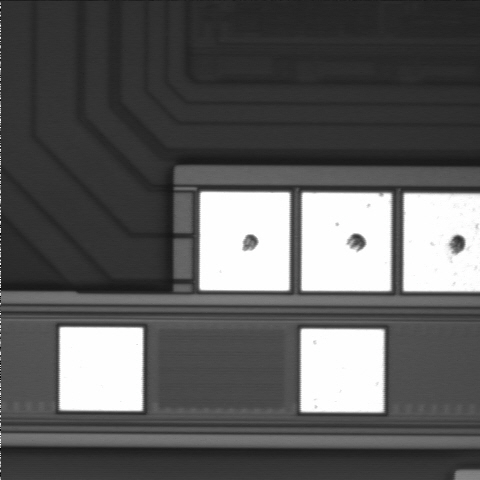pad: (200, 192, 290, 291), (302, 193, 391, 291), (60, 327, 143, 411), (301, 329, 384, 412)
